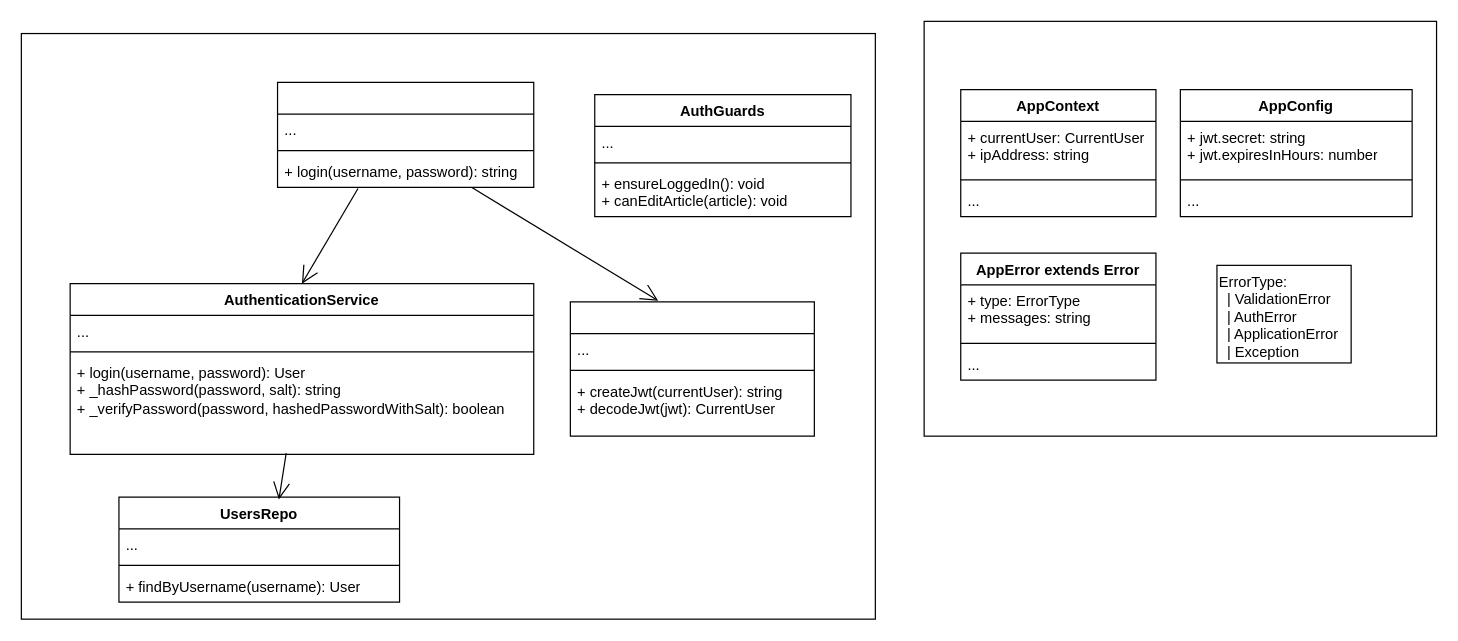
The diagram is 1458 pixels wide and 641 high, and some of its shapes have lost their labels. Here are the shapes that lost their labels. From the top down, the box of each, then its label:
(276, 81, 534, 187): AuthFacade
(923, 20, 1437, 436): SharedModule
(20, 32, 875, 619): AuthModule
(569, 301, 814, 436): JwtService
